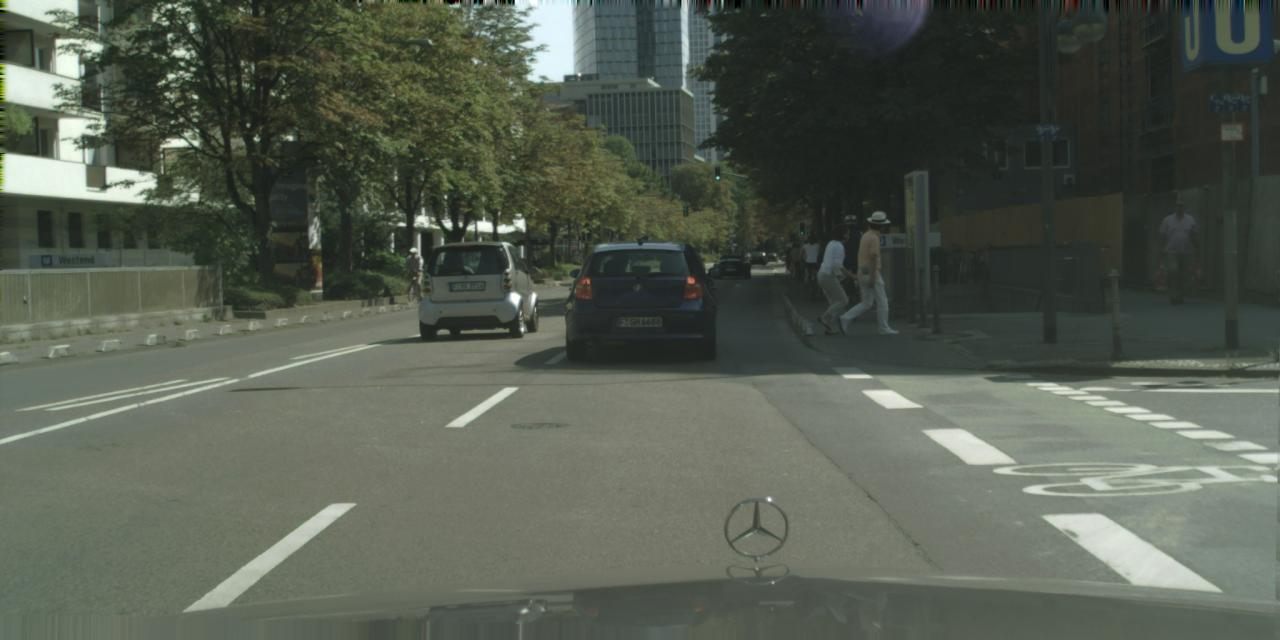ped: (844, 210, 895, 334), (812, 223, 856, 334), (1157, 200, 1199, 304), (834, 215, 868, 302), (404, 246, 424, 294), (801, 235, 821, 283), (787, 242, 799, 272), (791, 244, 802, 274), (784, 246, 793, 271), (572, 250, 580, 272), (556, 249, 564, 270), (532, 257, 542, 269)
